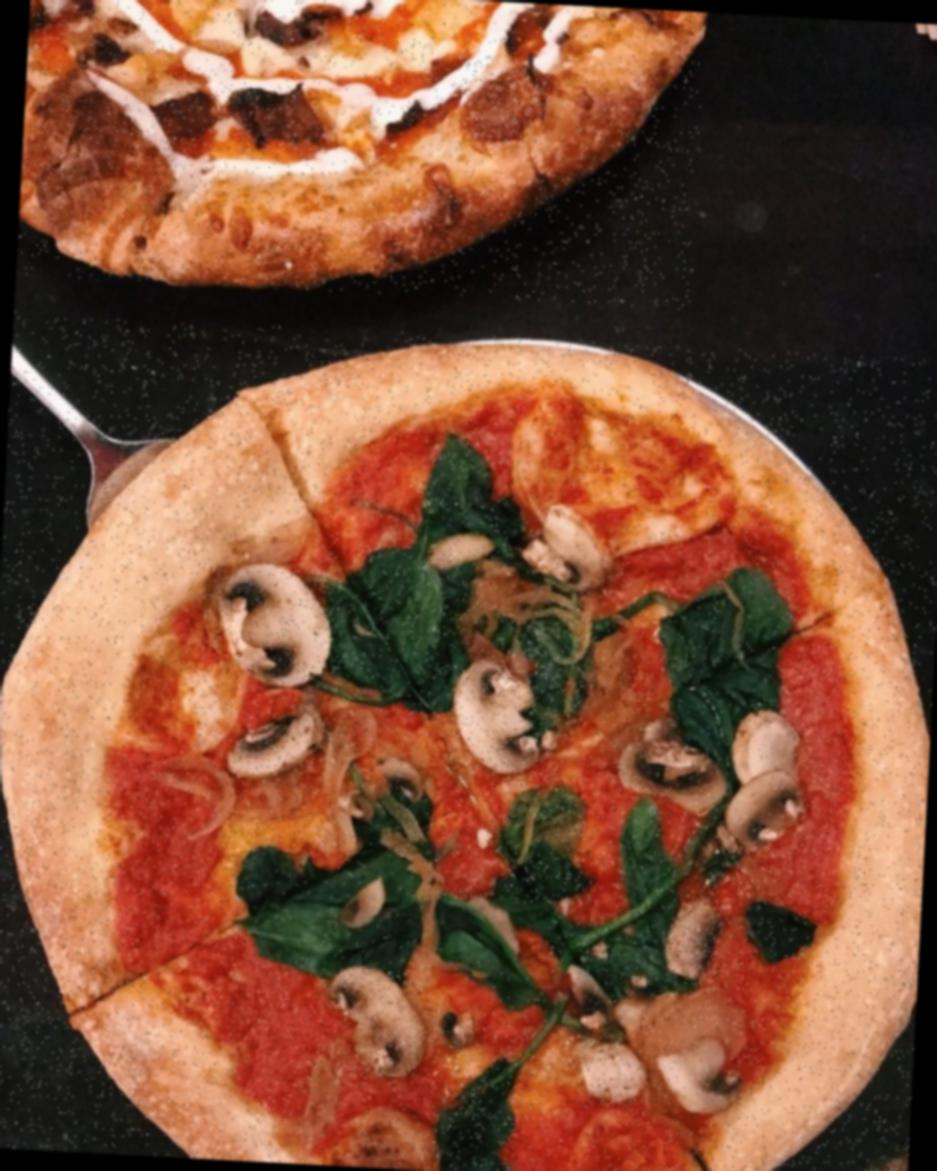Bacon: (43, 95, 162, 189), (458, 60, 552, 156), (228, 75, 329, 158), (496, 1, 568, 70), (243, 0, 339, 50), (143, 90, 221, 146)
Basil: (316, 540, 464, 712), (246, 842, 431, 970), (659, 570, 792, 728), (500, 770, 598, 902), (429, 900, 548, 1000), (606, 792, 696, 914), (416, 430, 517, 538), (560, 906, 666, 1000), (486, 612, 586, 711), (732, 878, 819, 974), (442, 1067, 521, 1171)
Mushroom: (315, 956, 443, 1078), (201, 557, 330, 678), (718, 707, 831, 840), (608, 728, 732, 827), (443, 665, 549, 778), (515, 496, 624, 598), (344, 750, 436, 845), (648, 1030, 736, 1122), (642, 890, 724, 985), (230, 706, 308, 773), (576, 1034, 642, 1106), (419, 525, 500, 567)
Pizza: (0, 311, 937, 1171), (15, 0, 705, 309)
